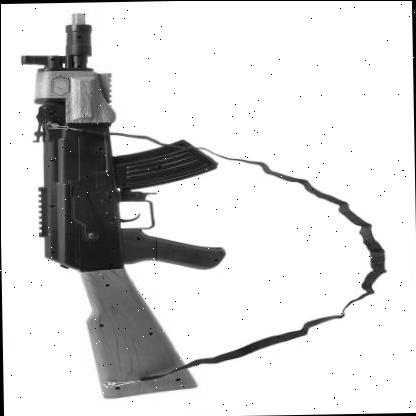rifle: (6, 11, 231, 405)
